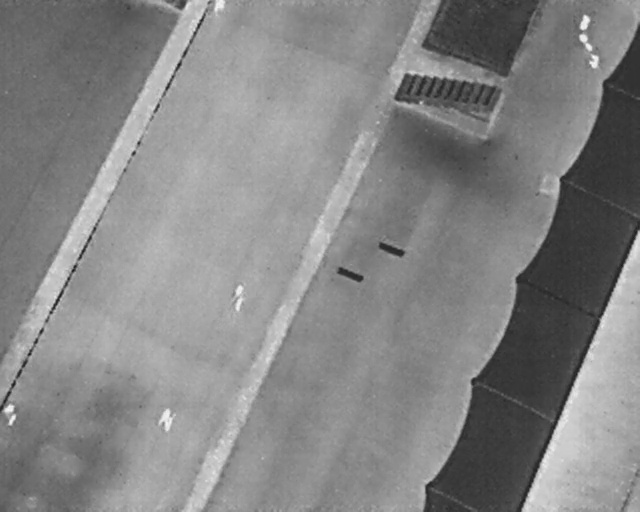Person: (232, 282, 246, 315), (2, 401, 19, 428), (157, 409, 175, 432), (212, 0, 228, 13)
